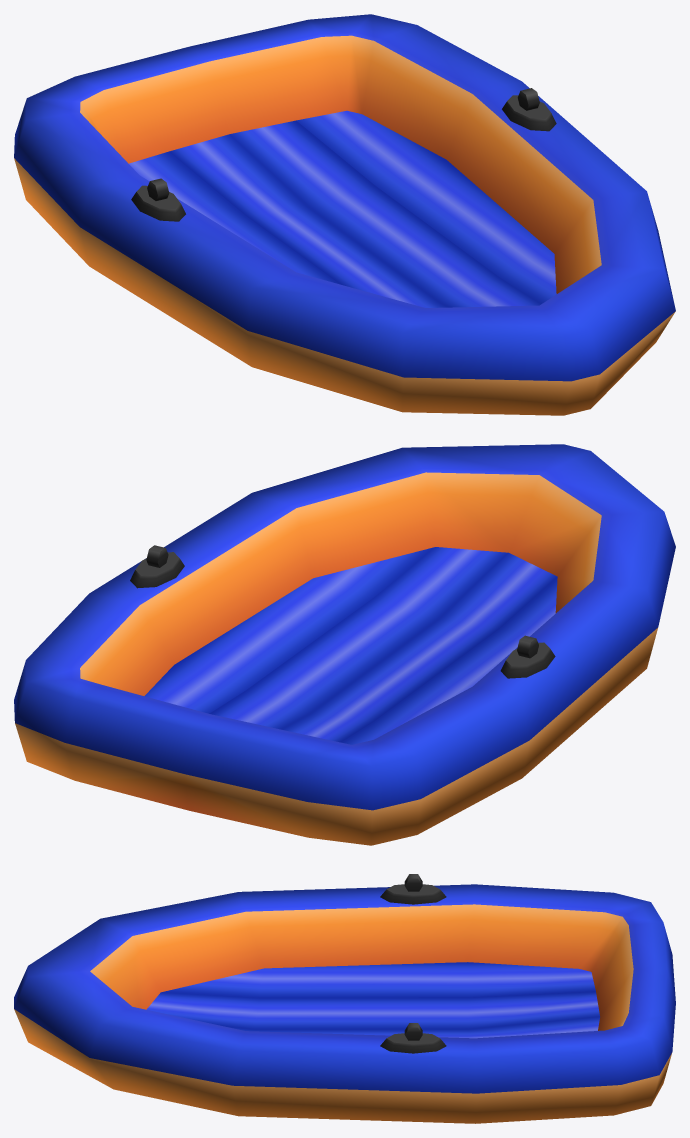
Rendered from Inflatable_Boat_03.fbx.
3 renders of one model, top to bottom at view 1: azimuth 30°, elevation 25°; view 2: azimuth 150°, elevation 25°; view 3: azimuth 270°, elevation 25°, orthographic. The views are drawn at different scales.
Visible parts, largest first — view 1: Inflatable_Boat_03; view 2: Inflatable_Boat_03; view 3: Inflatable_Boat_03.
Boxes of the visible parts, <box> form: Inflatable_Boat_03: <box>14,14,675,415</box>; Inflatable_Boat_03: <box>14,444,675,845</box>; Inflatable_Boat_03: <box>14,874,675,1123</box>.
Size of the model in its own units: 0.5888 by 0.1594 by 0.9106.
